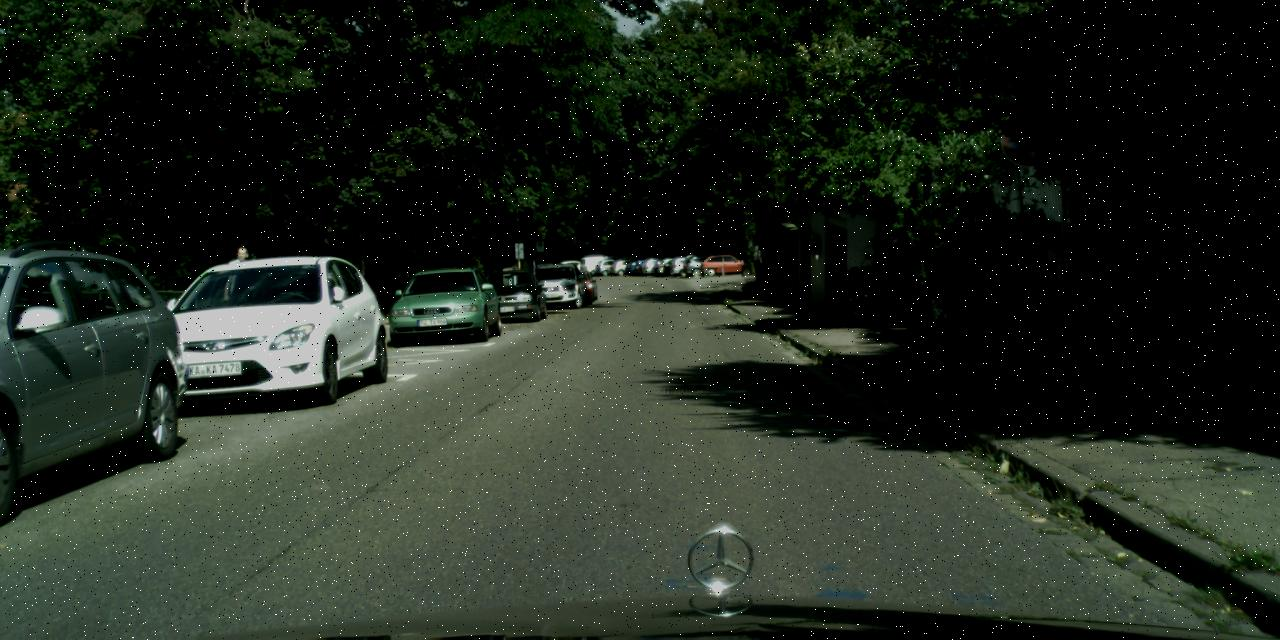ped: (220, 247, 260, 346)
